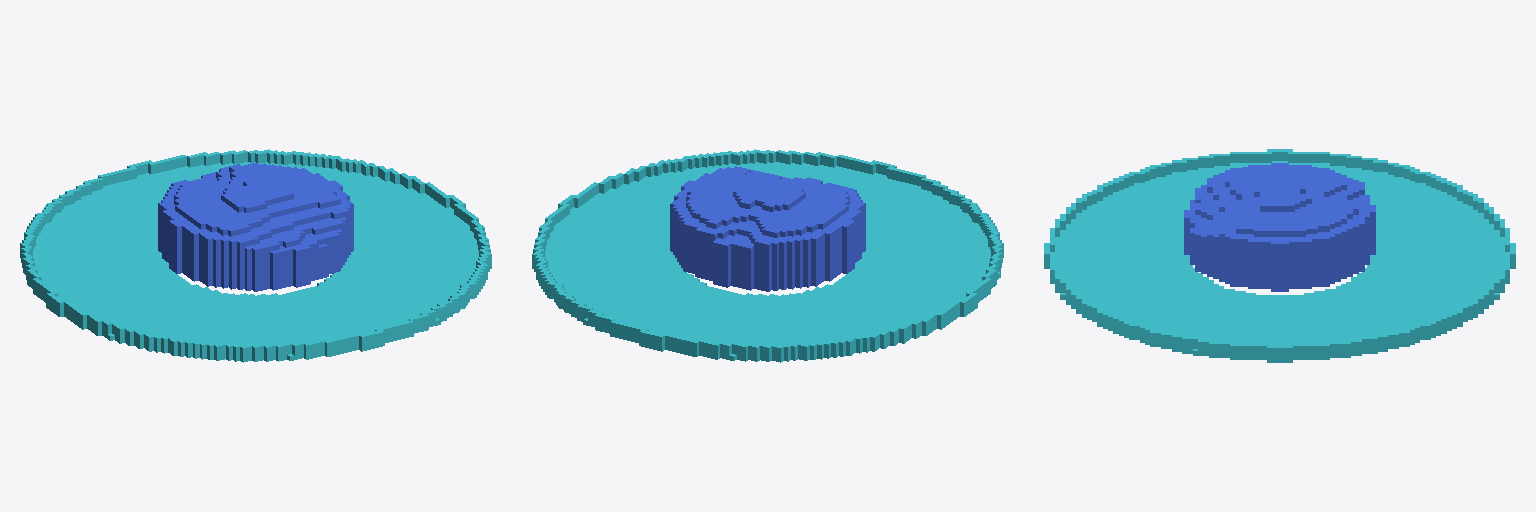
The robot description file, URDF, robot "physxnet_10091_strict":
<?xml version='1.0' encoding='utf-8'?>
<robot name="physxnet_10091_strict">
  <link name="l_world">
    <inertial>
      <origin xyz="0 0 0" rpy="0 0 0" />
      <mass value="0.0100000000" />
      <inertia ixx="0.0000001667" ixy="0.0" ixz="0.0" iyy="0.0000001667" iyz="0.0" izz="0.0000001667" />
    </inertial>
  </link><link name="l_0">
    <inertial>
      <origin xyz="-0.0000000895 -0.0000000000 0.0053030900" rpy="0 0 0" />
      <mass value="0.0037674358" />
      <inertia ixx="0.0000065728" ixy="0.0" ixz="0.0" iyy="0.0000065728" iyz="0.0" izz="0.0000119254" />
    </inertial><visual>
      <origin xyz="0 0 0" rpy="0 0 0" />
      <geometry>
        <mesh filename="../rigid_visuals/part_000_visual.obj" scale="1 1 1" />
      </geometry><material name="mat_l_0">
        <color rgba="0.32548 0.48041 0.93131 1.00000" />
      </material>
    </visual><collision>
      <origin xyz="0 0 0" rpy="0 0 0" />
      <geometry>
        <mesh filename="part_000_collision.obj" scale="1 1 1" />
      </geometry>
    </collision>
  </link><joint name="joint_fixed_l_world_l_0" type="fixed">
    <parent link="l_world" />
    <child link="l_0" />
    <origin xyz="0 0 0" rpy="0 0 0" />
  </joint><link name="l_1">
    <inertial>
      <origin xyz="-0.0000000895 -0.0000000000 -0.0220407327" rpy="0 0 0" />
      <mass value="0.0009064604" />
      <inertia ixx="0.0000014431" ixy="0.0" ixz="0.0" iyy="0.0000014431" iyz="0.0" izz="0.0000028693" />
    </inertial><visual>
      <origin xyz="0 0 0" rpy="0 0 0" />
      <geometry>
        <mesh filename="../rigid_visuals/part_001_visual.obj" scale="1 1 1" />
      </geometry><material name="mat_l_1">
        <color rgba="0.15447 0.35718 0.26453 1.00000" />
      </material>
    </visual><collision>
      <origin xyz="0 0 0" rpy="0 0 0" />
      <geometry>
        <mesh filename="part_001_collision.obj" scale="1 1 1" />
      </geometry>
    </collision>
  </link><joint name="joint_fixed_l_0_l_1" type="fixed">
    <parent link="l_0" />
    <child link="l_1" />
    <origin xyz="0 0 0" rpy="0 0 0" />
  </joint><link name="l_2">
    <inertial>
      <origin xyz="-0.0000000000 0.0000000000 -0.0240625425" rpy="0 0 0" />
      <mass value="0.0036176096" />
      <inertia ixx="0.0000369427" ixy="0.0" ixz="0.0" iyy="0.0000369427" iyz="0.0" izz="0.0000738595" />
    </inertial><visual>
      <origin xyz="0 0 0" rpy="0 0 0" />
      <geometry>
        <mesh filename="../rigid_visuals/part_002_visual.obj" scale="1 1 1" />
      </geometry><material name="mat_l_2">
        <color rgba="0.29417 0.82410 0.87988 1.00000" />
      </material>
    </visual><collision>
      <origin xyz="0 0 0" rpy="0 0 0" />
      <geometry>
        <mesh filename="part_002_collision.obj" scale="1 1 1" />
      </geometry>
    </collision>
  </link><joint name="joint_fixed_l_1_l_2" type="fixed">
    <parent link="l_1" />
    <child link="l_2" />
    <origin xyz="0 0 0" rpy="0 0 0" />
  </joint>
</robot>

--- What the picture shows (computed from the rendered views, not written in the file) ---
Views: 3 orthographic renders of the robot side by side, from view 1: azimuth 30°, elevation 25°; view 2: azimuth 150°, elevation 25°; view 3: azimuth 270°, elevation 25°.
Robot: physxnet_10091_strict — 4 links, 3 joints (3 fixed); root link l_world; default pose: every joint at zero.
Visible links, largest first — view 1: l_2, l_0; view 2: l_2, l_0; view 3: l_2, l_0.
Link boxes in pixels (left/top/right/bottom): l_2: left=20, top=149, right=491, bottom=362; l_0: left=158, top=163, right=353, bottom=291; l_2: left=532, top=149, right=1003, bottom=362; l_0: left=670, top=166, right=865, bottom=291; l_2: left=1044, top=149, right=1515, bottom=362; l_0: left=1184, top=163, right=1375, bottom=291.
Bounding box of the posed robot: 0.356 × 0.356 × 0.0587 m (x, y, z).
Meshes: 3 distinct files referenced, 2 mesh visuals loaded (2 OBJ); not drawn: 1 (reference not matched to a file when rendering).
